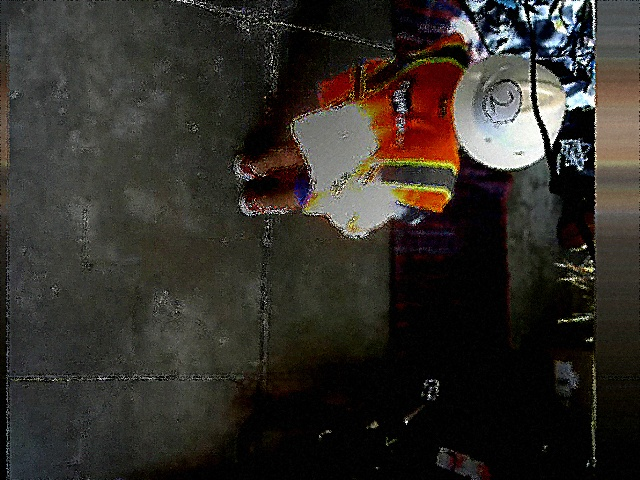two: (483, 79, 521, 123)
